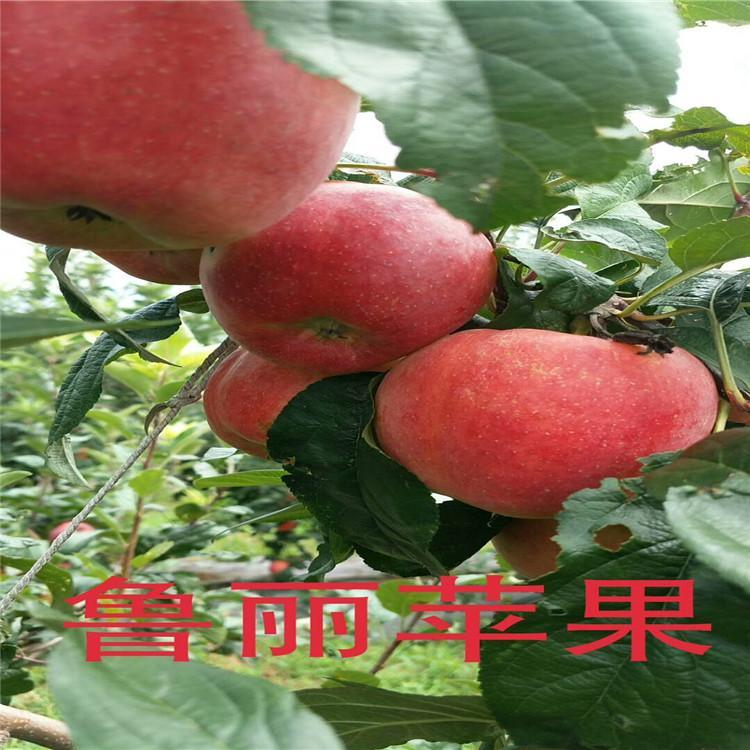apple: (5, 3, 354, 252), (371, 324, 723, 518), (201, 177, 496, 375)
